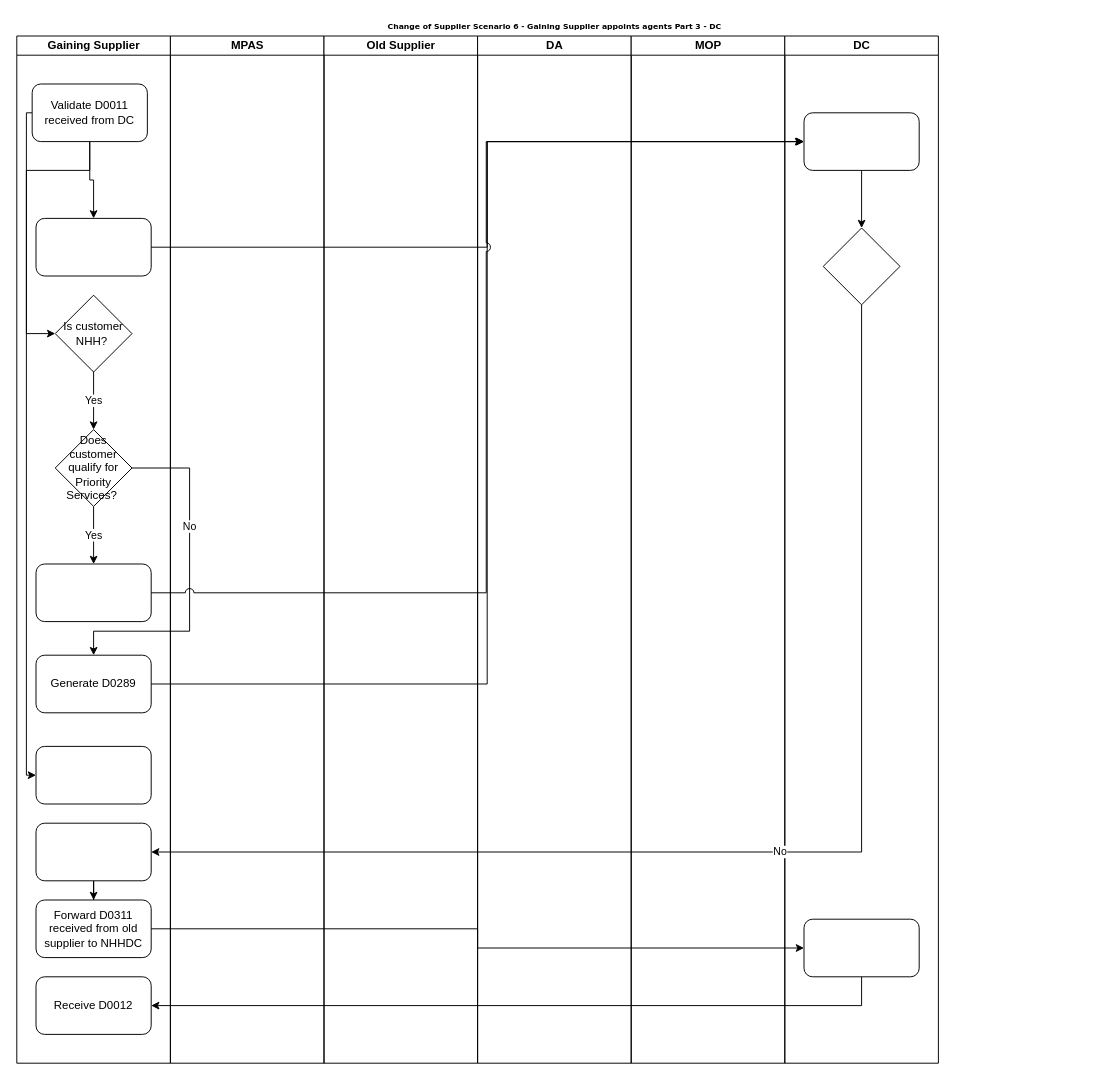
The diagram is 1109 pixels wide and 1080 high, and some of its shapes have lost their labels. Each missing label, with the centre of its shape:
"Confirm inclusion of Meter Point in Reading Schedule" goes at (861,947).
"Generate D0148 (see notes in cards on data to be sent)" goes at (93,246).
"Generate D0225" goes at (93,592).
"Generate D0302" goes at (93,774).
"Receive D0170" goes at (93,851).
"Received data from old DC (NHH only)?" goes at (861,266).
"Receives customer & agent data" goes at (861,141).
